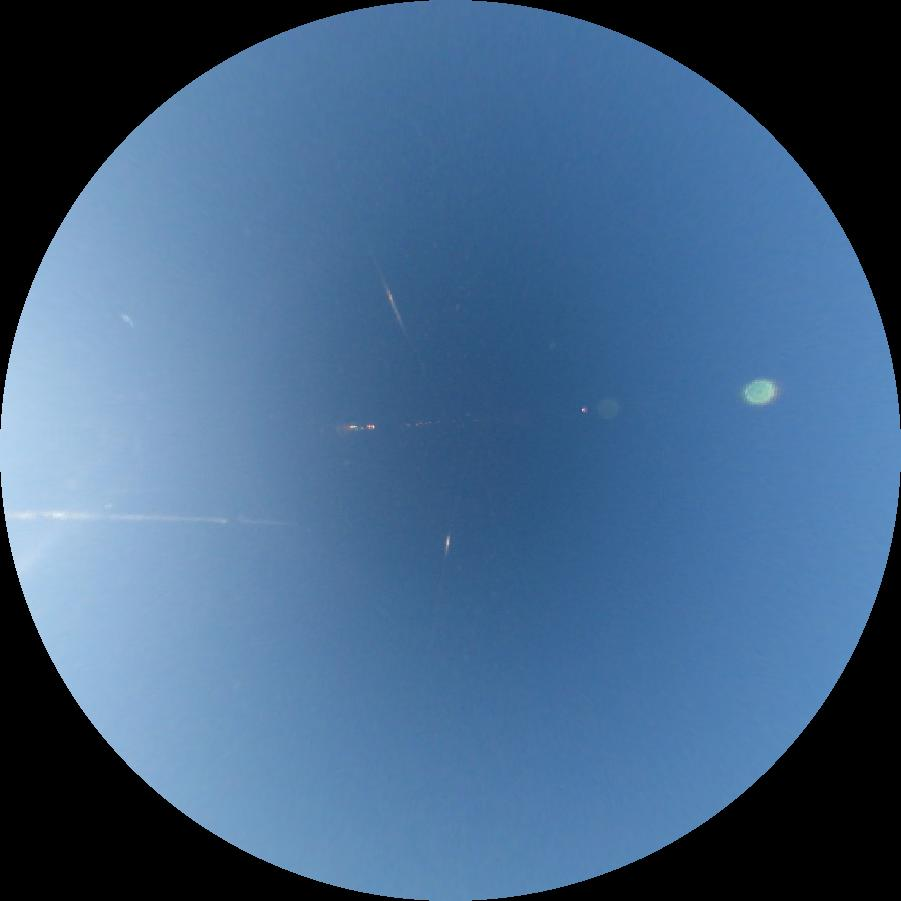parasite: (365, 250, 427, 370), (4, 510, 305, 527), (120, 312, 135, 329), (444, 534, 451, 557)
